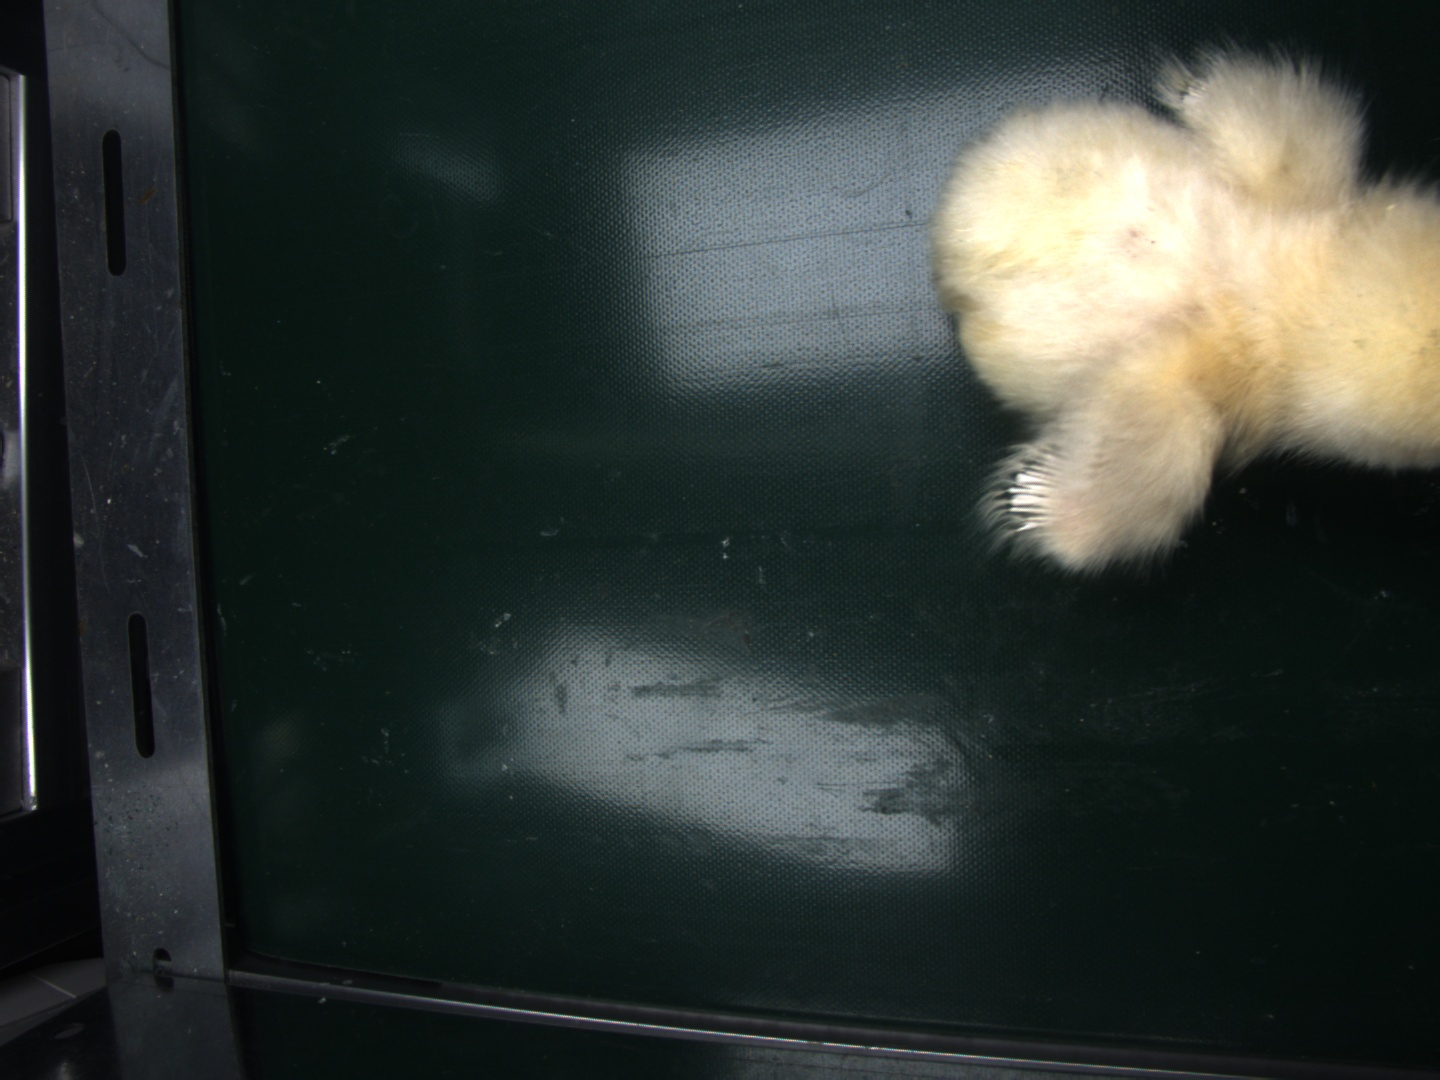male: (1005, 454, 1070, 540)
